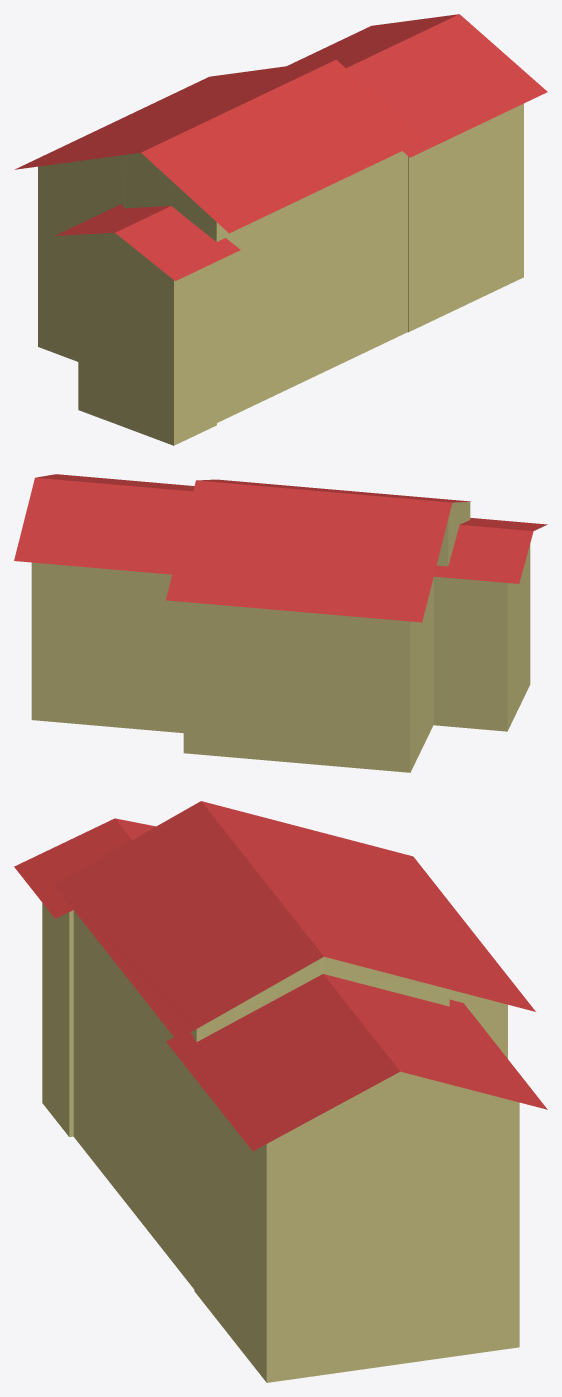
3 renders of one model, top to bottom at view 1: azimuth 30°, elevation 25°; view 2: azimuth 150°, elevation 25°; view 3: azimuth 270°, elevation 25°, orthographic. The views are drawn at different scales.
Visible parts, largest first — view 1: group_9, group_7, group_13, group_5, group_3, group_11, group_8, group_4, group_12; view 2: group_9, group_7, group_5, group_3, group_13, group_11, group_8, group_12; view 3: group_5, group_7, group_3, group_9, group_8, group_13, group_11, group_4, group_12.
Boxes of the visible parts, x1=… form: group_9: x1=38, y1=152, x2=396, y2=422; group_7: x1=16, y1=59, x2=412, y2=232; group_13: x1=78, y1=232, x2=216, y2=445; group_5: x1=396, y1=103, x2=523, y2=336; group_3: x1=287, y1=14, x2=547, y2=157; group_11: x1=55, y1=204, x2=240, y2=280; group_8: x1=14, y1=76, x2=424, y2=233; group_4: x1=372, y1=15, x2=546, y2=157; group_12: x1=61, y1=205, x2=238, y2=280; group_9: x1=183, y1=502, x2=470, y2=772; group_7: x1=166, y1=479, x2=469, y2=620; group_5: x1=31, y1=562, x2=183, y2=733; group_3: x1=14, y1=474, x2=194, y2=574; group_13: x1=448, y1=544, x2=530, y2=731; group_11: x1=434, y1=518, x2=547, y2=583; group_8: x1=166, y1=479, x2=470, y2=622; group_12: x1=434, y1=518, x2=544, y2=582; group_5: x1=188, y1=1070, x2=519, y2=1382; group_7: x1=54, y1=801, x2=534, y2=1028; group_3: x1=166, y1=974, x2=547, y2=1151; group_9: x1=75, y1=912, x2=507, y2=1281; group_8: x1=54, y1=831, x2=535, y2=1040; group_13: x1=42, y1=903, x2=74, y2=1137; group_11: x1=14, y1=818, x2=155, y2=918; group_4: x1=166, y1=1032, x2=546, y2=1148; group_12: x1=16, y1=819, x2=153, y2=916.
Bounding box in the file's own units: 25.98 × 17.96 × 11.85.
